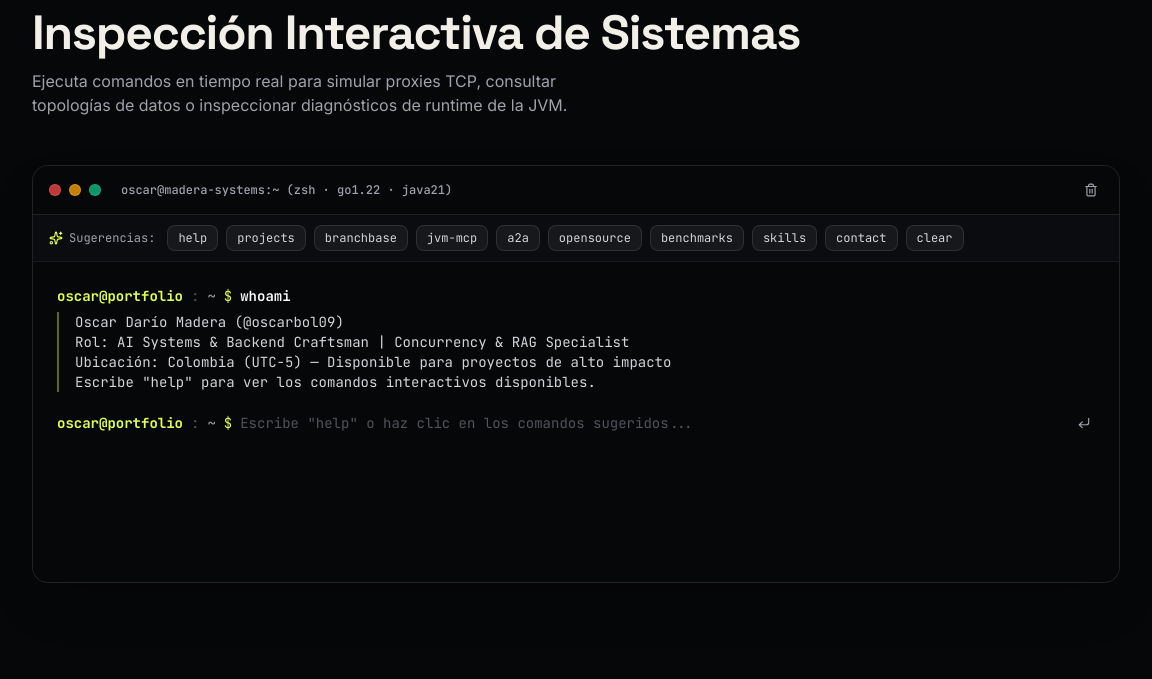
Test case: Component: TerminalSection Integration › should execute command when clicking a suggestion pill
The image size is (1152, 679).
(page scrolled)
Step 1. Click the button "skills" → (784, 238), box [752,225,817,251]
(page scrolled)
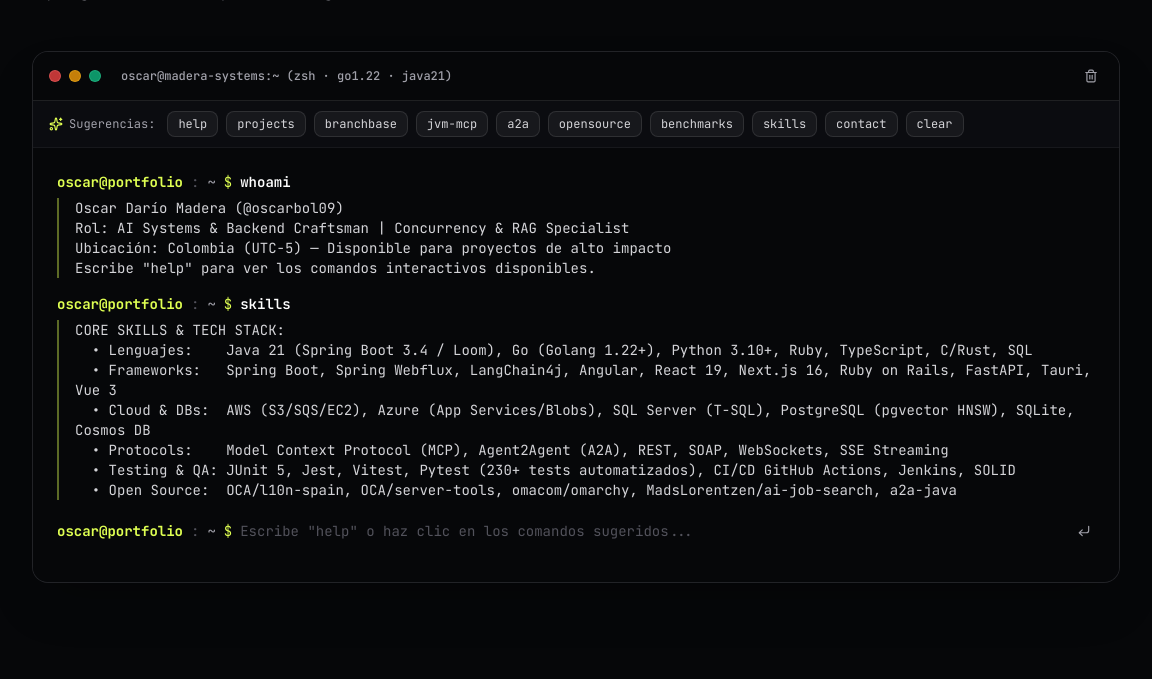
Now the text "CORE SKILLS & TECH STACK:" is shown, box [75,321,285,339]
